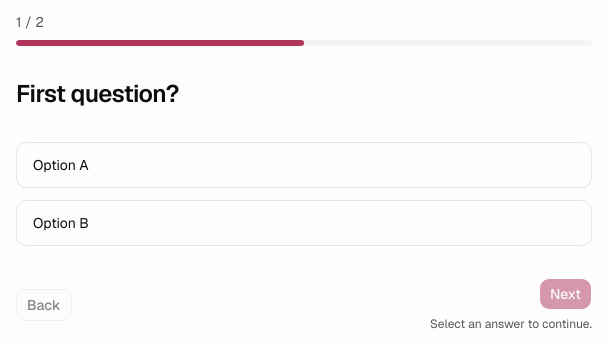
it: QuizFlow › blocks advancing to the next question until the current one is answered
Expected: the button "Next" is disabled, [539, 278, 592, 310]
Click the radio button labelled "Option A". click: (61, 165)
box: [16, 142, 592, 188]
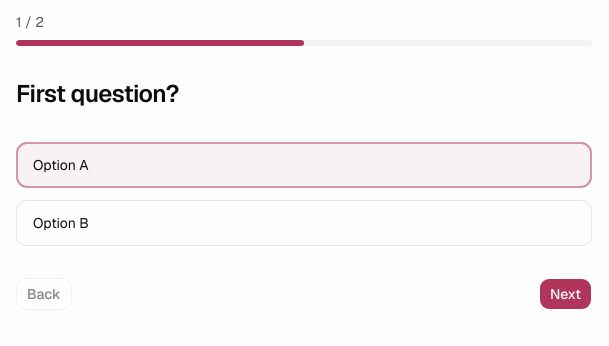
Now the button "Next" is enabled, box [539, 278, 592, 310]
